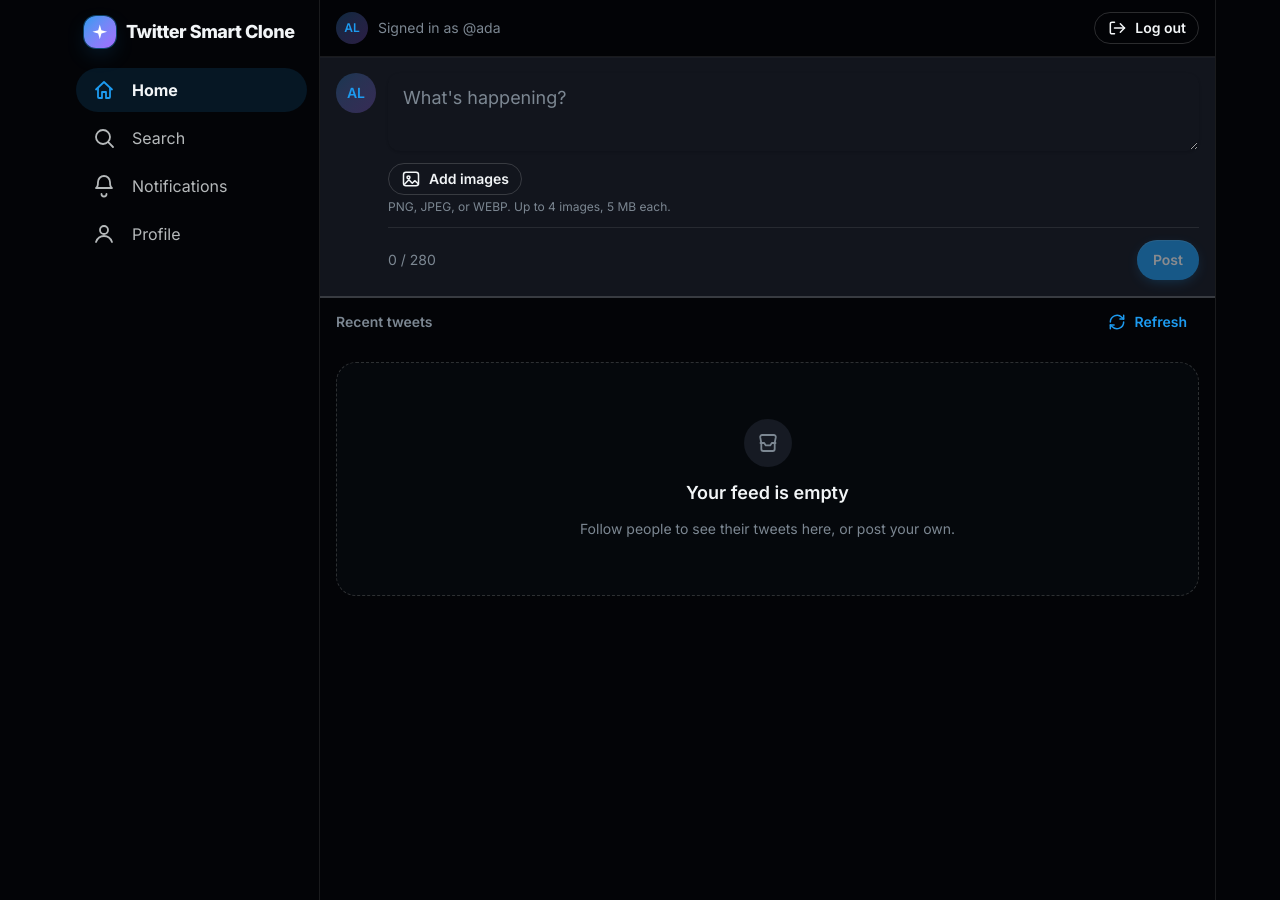
Scenario: ProfileEdit › shows inline validation errors mirroring backend rules and does not submit
Click the text "Signed in as @ada" at coordinates (439, 28), box 378,18 -> 500,38
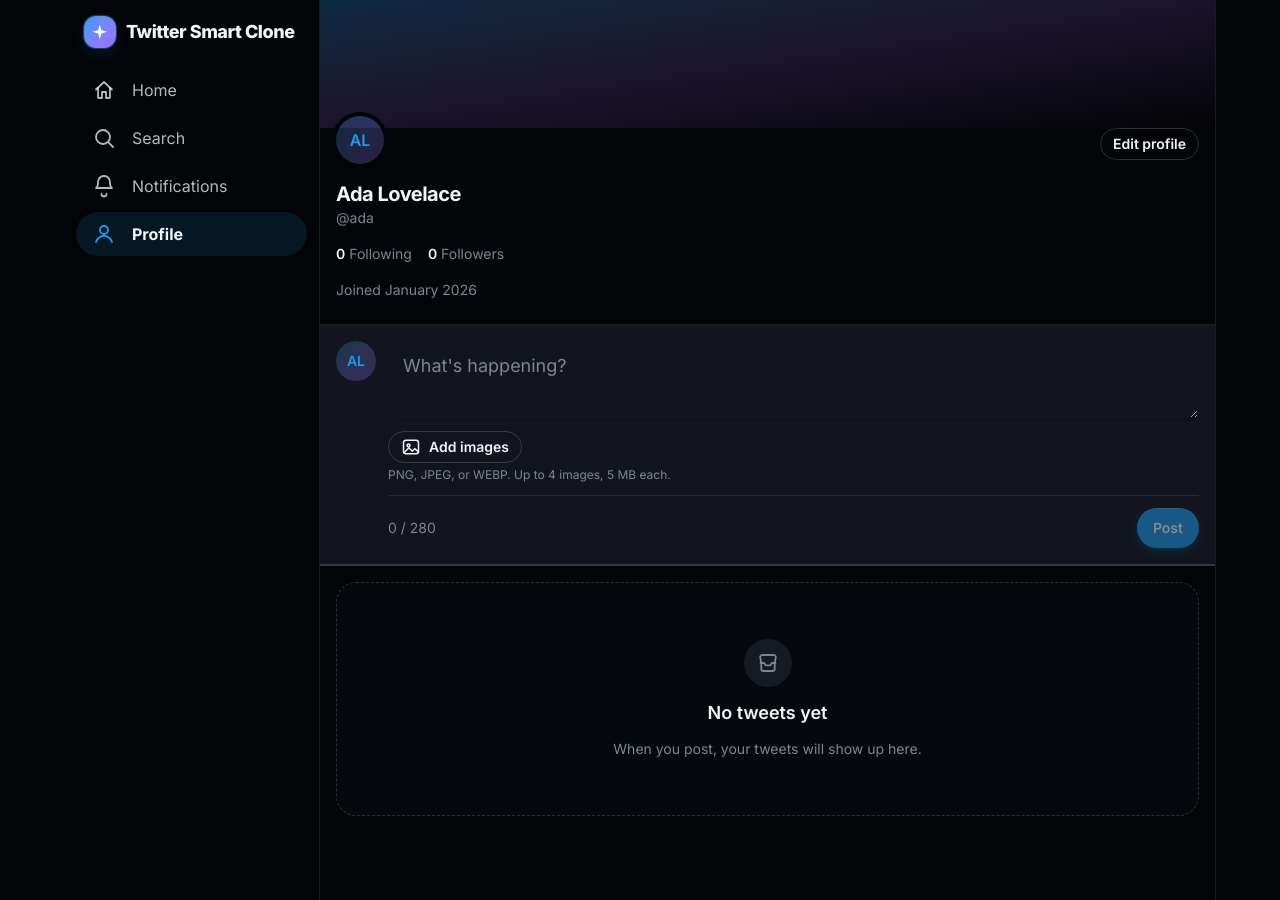
Click the button "Edit profile" at coordinates (1150, 144), box 1100,128 -> 1199,160
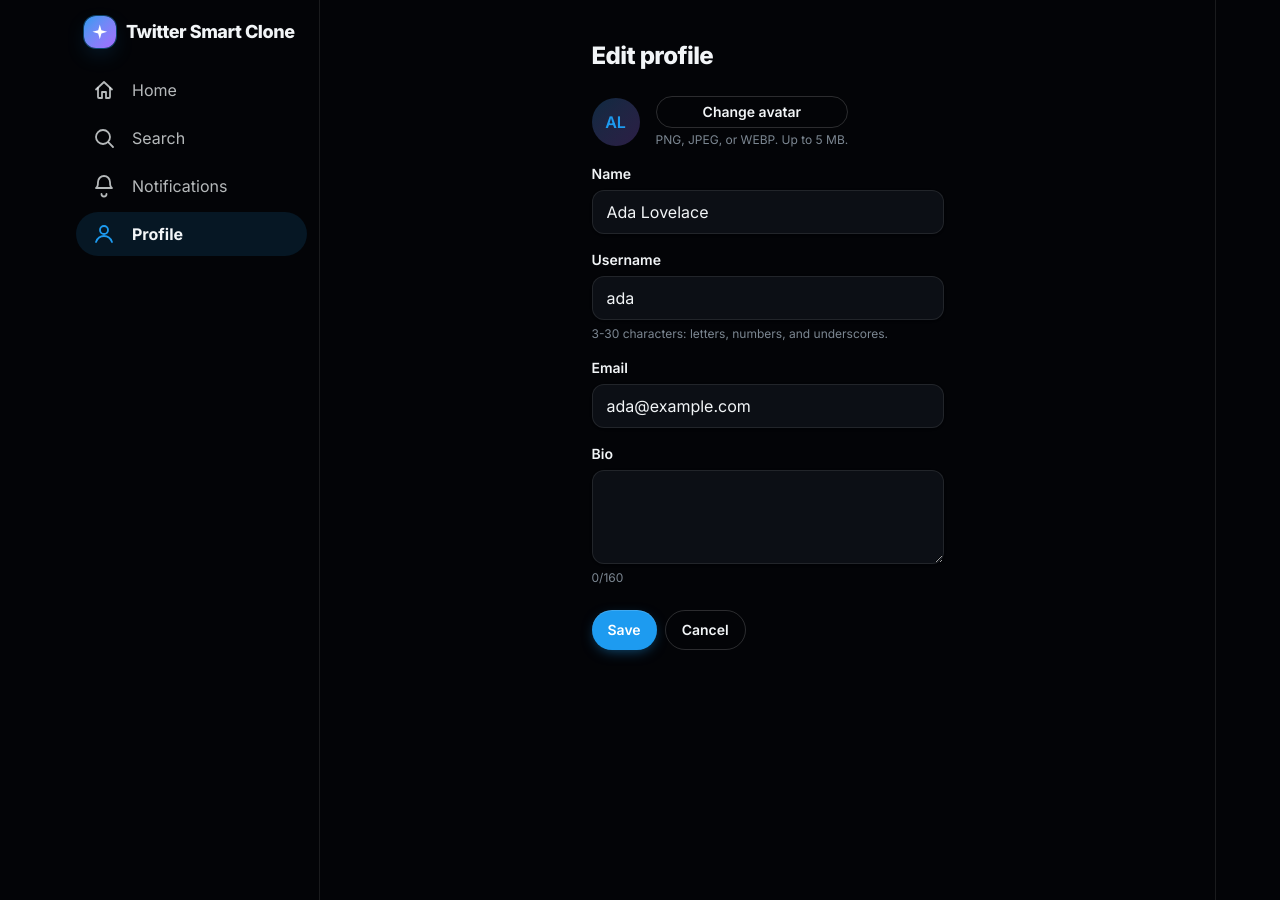
Expected: the heading "Edit profile" is shown, 592,41 -> 713,70
Replace the text in the field labelled "Username" with "a" at coordinates (768, 298), box 592,276 -> 944,320
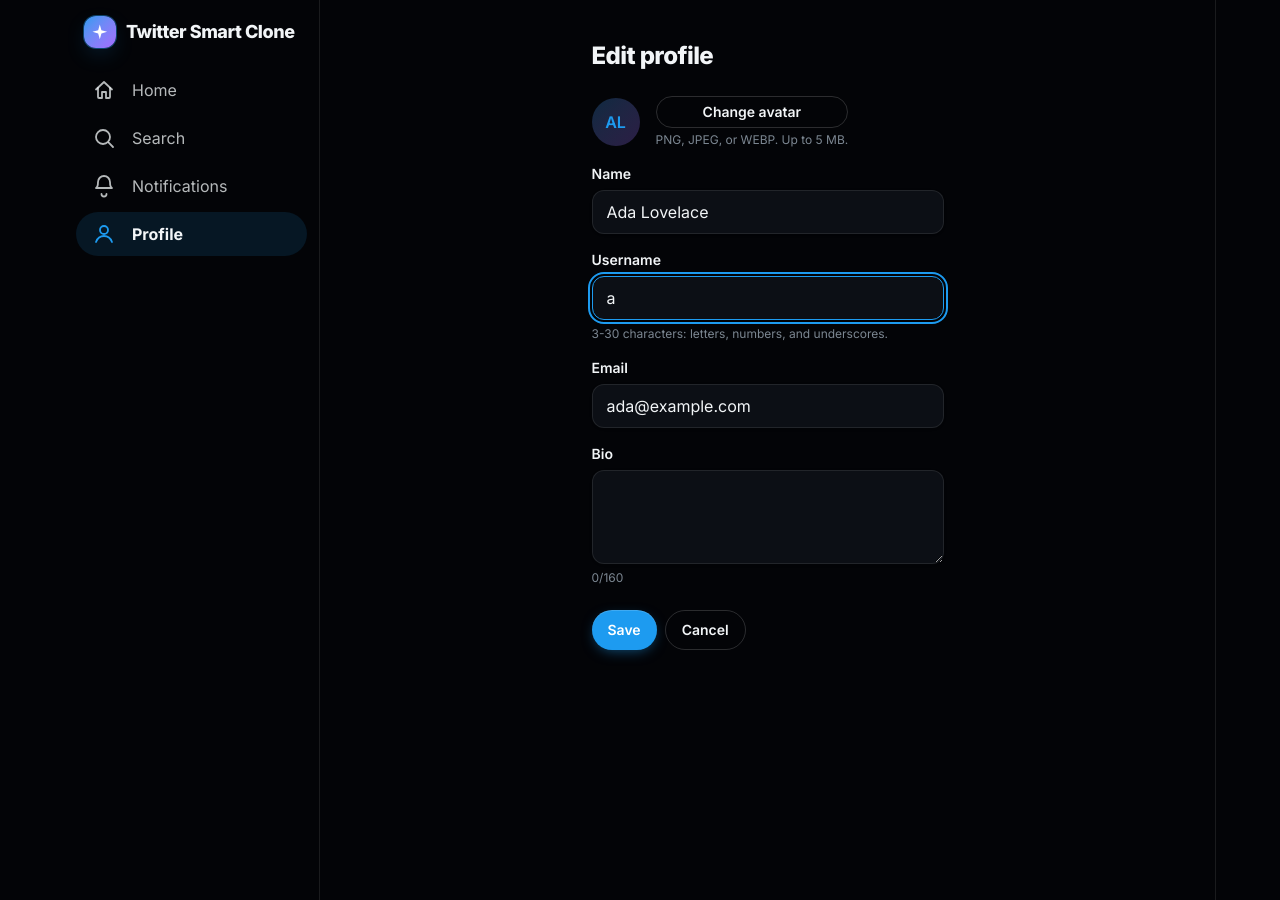
Click the button "Save" at coordinates (624, 630), box 592,610 -> 657,650
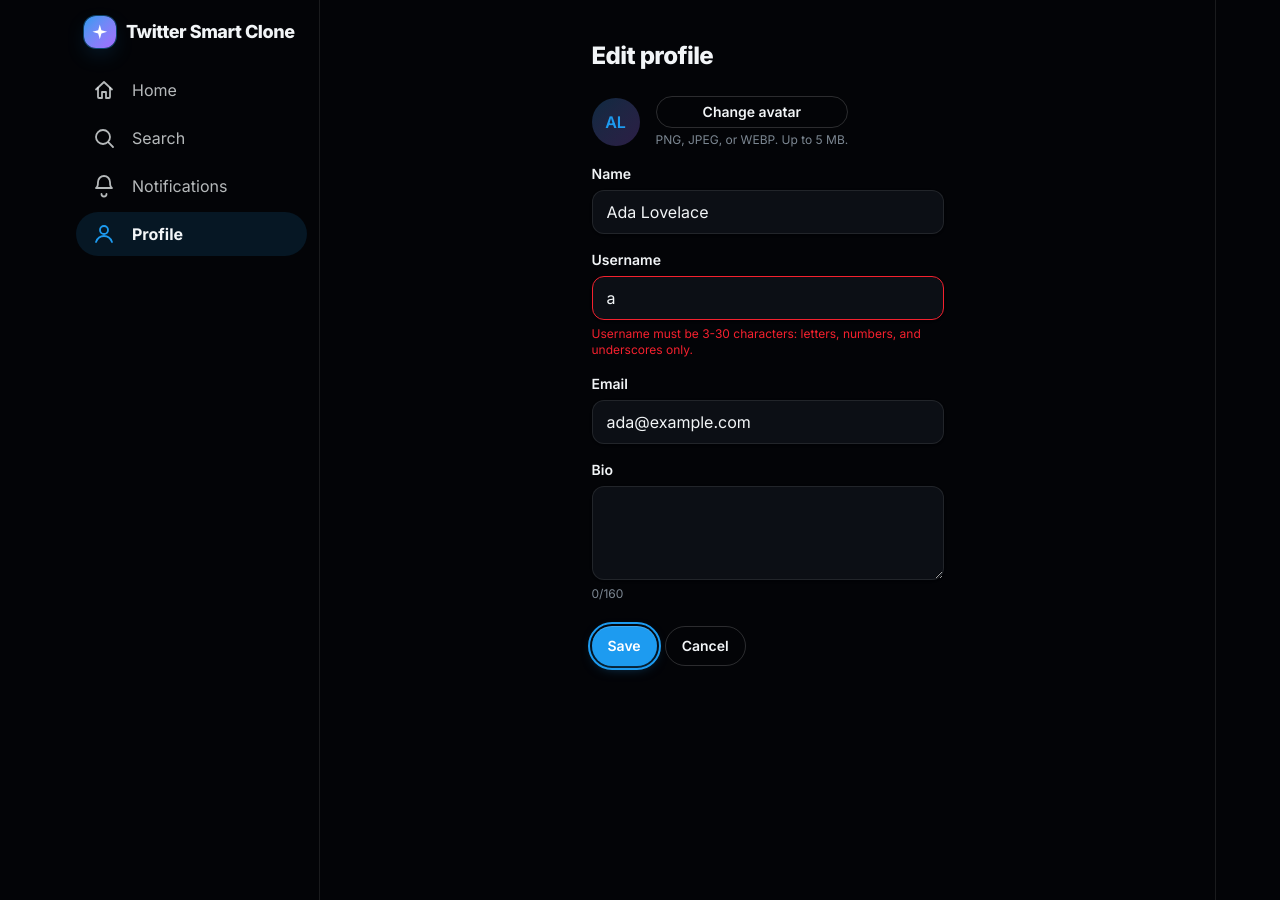
Expected: the text "Username must be 3-30 characters: letters, numbers, and underscores only." is shown, 592,326 -> 944,358
